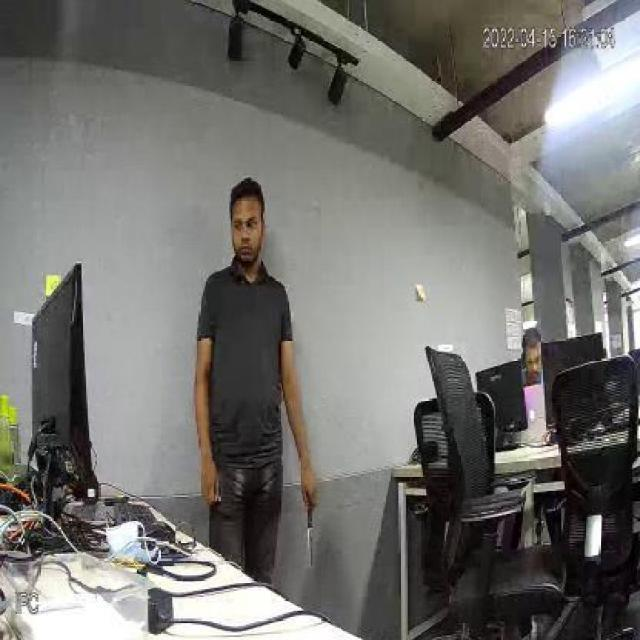-: (303, 497, 320, 581)
